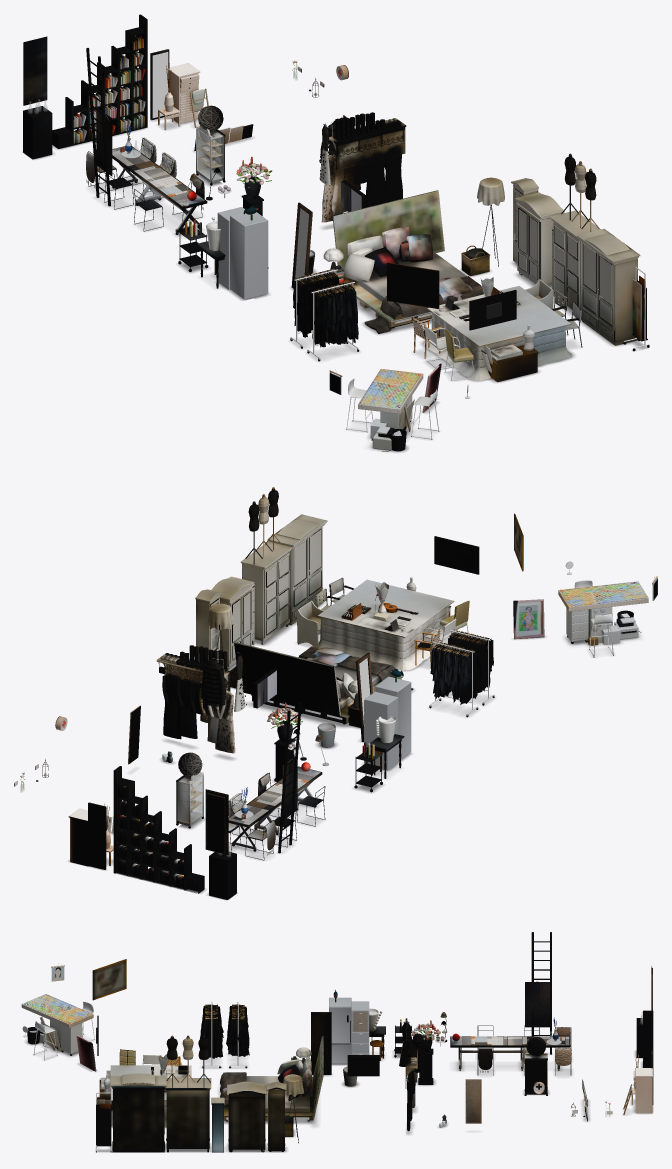
The model's file is furniture.glb.
The picture shows the model from 3 angles, top to bottom: view 1: azimuth 30°, elevation 25°; view 2: azimuth 150°, elevation 25°; view 3: azimuth 270°, elevation 25°; orthographic projection. The views are drawn at different scales.
Parts seen in each view (by area): view 1: studio__bed_board, kitchen__book0_0_14450, studio__table_board, studio__bed_bigward_body, studio__bed_form0_cap, corner__bag, kitchen__fish_body_pbr, studio__bed_wardrobe1_body, kitchen__carafe0, studio__bed_2_castor-1-0.2, kitchen__delph_floret0_0, hallway__rack_backboard (+21 smaller); view 2: studio__table_board, studio__bed_board, kitchen__book0_0_14450, studio__bed_form0_cap, corner__bag, studio__bed_bigward_body, kitchen__carafe0, studio__bed_1_castor-1-0.2, studio__bed_wardrobe1_body, kitchen__delph_floret0_0, kitchen__ladder_dress, kitchen__filing_body_pbr (+22 smaller); view 3: studio__bed_bigward_body, studio__bed_form0_cap, studio__bed_board, studio__bed_wardrobe1_body, corner__bag, kitchen__ladder_dress, kitchen__delph_floret0_0, kitchen__fish_body_pbr, studio__bed_glasscab_body, studio__bed_mirror_frame, studio__bed_1_castor-1-0.2, studio__table_rooster_back (+15 smaller).
Part boxes in pixels (bbox=[...]): studio__bed_board: bbox=[332, 190, 483, 333]; kitchen__book0_0_14450: bbox=[52, 14, 147, 148]; studio__table_board: bbox=[423, 286, 572, 380]; studio__bed_bigward_body: bbox=[577, 228, 640, 345]; studio__bed_form0_cap: bbox=[549, 155, 600, 319]; corner__bag: bbox=[358, 368, 423, 451]; kitchen__fish_body_pbr: bbox=[230, 212, 268, 299]; studio__bed_wardrobe1_body: bbox=[515, 192, 564, 285]; kitchen__carafe0: bbox=[23, 36, 52, 159]; studio__bed_2_castor-1-0.2: bbox=[307, 282, 359, 361]; kitchen__delph_floret0_0: bbox=[112, 125, 207, 234]; hallway__rack_backboard: bbox=[329, 122, 406, 170]; studio__table_board: bbox=[317, 579, 454, 670]; studio__bed_board: bbox=[234, 642, 413, 724]; kitchen__book0_0_14450: bbox=[113, 766, 204, 893]; studio__bed_form0_cap: bbox=[240, 487, 293, 644]; corner__bag: bbox=[558, 581, 648, 645]; studio__bed_bigward_body: bbox=[267, 514, 327, 625]; kitchen__carafe0: bbox=[205, 789, 236, 899]; studio__bed_1_castor-1-0.2: bbox=[429, 642, 478, 717]; studio__bed_wardrobe1_body: bbox=[211, 576, 254, 669]; kitchen__delph_floret0_0: bbox=[228, 766, 322, 851]; kitchen__ladder_dress: bbox=[278, 702, 301, 853]; kitchen__filing_body_pbr: bbox=[364, 691, 398, 770]; studio__bed_bigward_body: bbox=[110, 1073, 166, 1152]; studio__bed_form0_cap: bbox=[165, 1035, 211, 1152]; studio__bed_board: bbox=[220, 1036, 323, 1121]; studio__bed_wardrobe1_body: bbox=[227, 1081, 266, 1152]; corner__bag: bbox=[21, 994, 93, 1055]; kitchen__ladder_dress: bbox=[525, 932, 551, 1054]; kitchen__delph_floret0_0: bbox=[450, 1017, 570, 1070]; kitchen__fish_body_pbr: bbox=[329, 997, 351, 1063]; studio__bed_glasscab_body: bbox=[267, 1081, 286, 1151]; studio__bed_mirror_frame: bbox=[311, 1012, 331, 1074]; studio__bed_1_castor-1-0.2: bbox=[226, 1004, 249, 1068]; studio__table_rooster_back: bbox=[92, 959, 126, 1000].
Size of the model in its own units: 8.25 by 3.47 by 17.08.
Materials: 81 (59 with a texture image).
